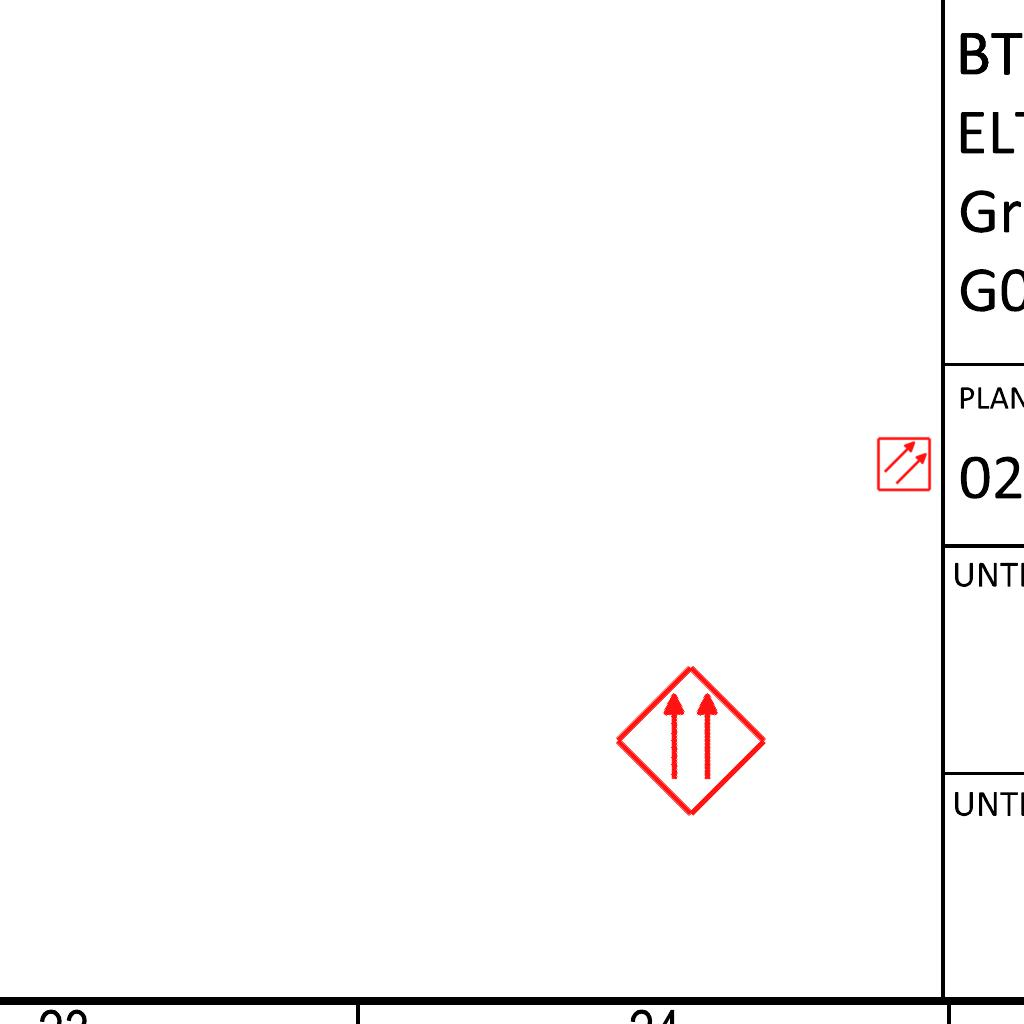RMO_Rauchmelder_optischer: (610, 660, 771, 821), (876, 436, 932, 492)
